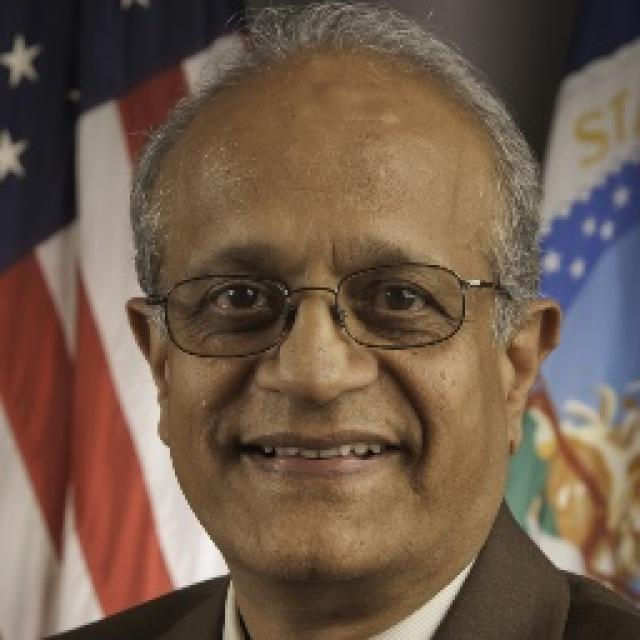earlobe: (504, 397, 524, 452), (155, 406, 171, 448)
eye: (359, 285, 433, 317), (207, 283, 272, 315)
nose: (257, 379, 377, 425)
wholeear: (505, 297, 565, 453), (123, 298, 170, 449)
